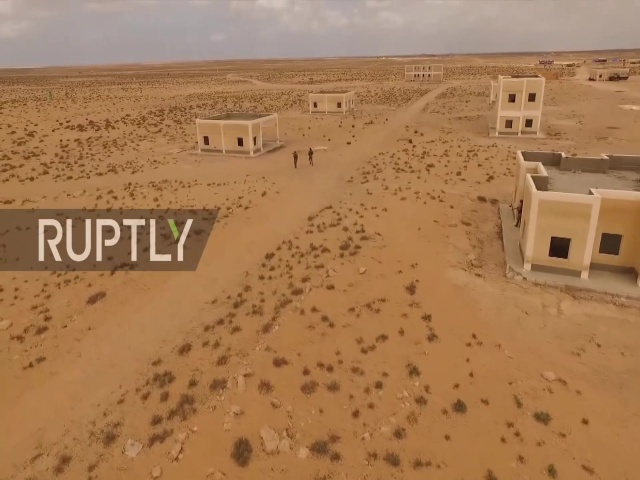person: (305, 145, 315, 167), (292, 151, 300, 171)
